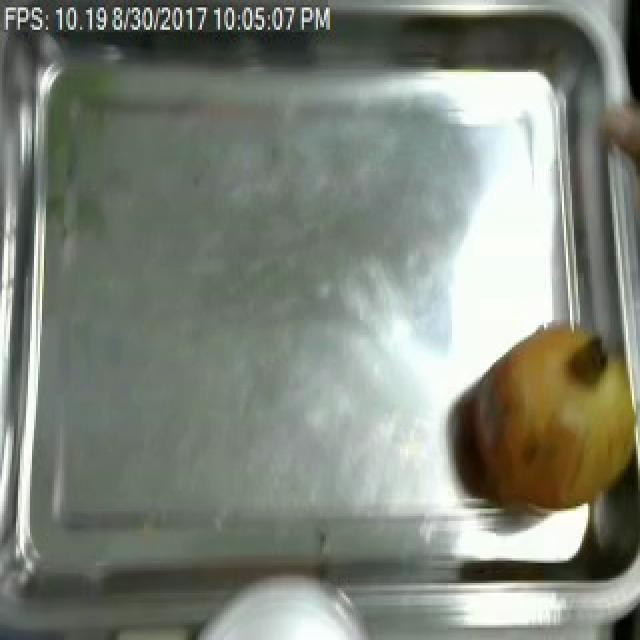fruit: (452, 298, 640, 536)
